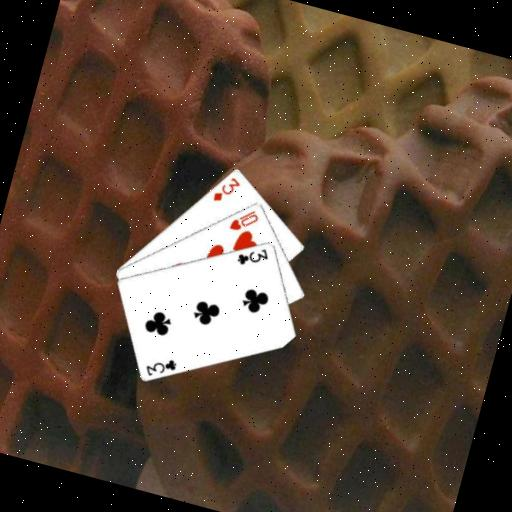10H: (225, 202, 261, 237)
3C: (141, 349, 180, 383), (232, 239, 271, 272)
3D: (209, 170, 243, 208)
